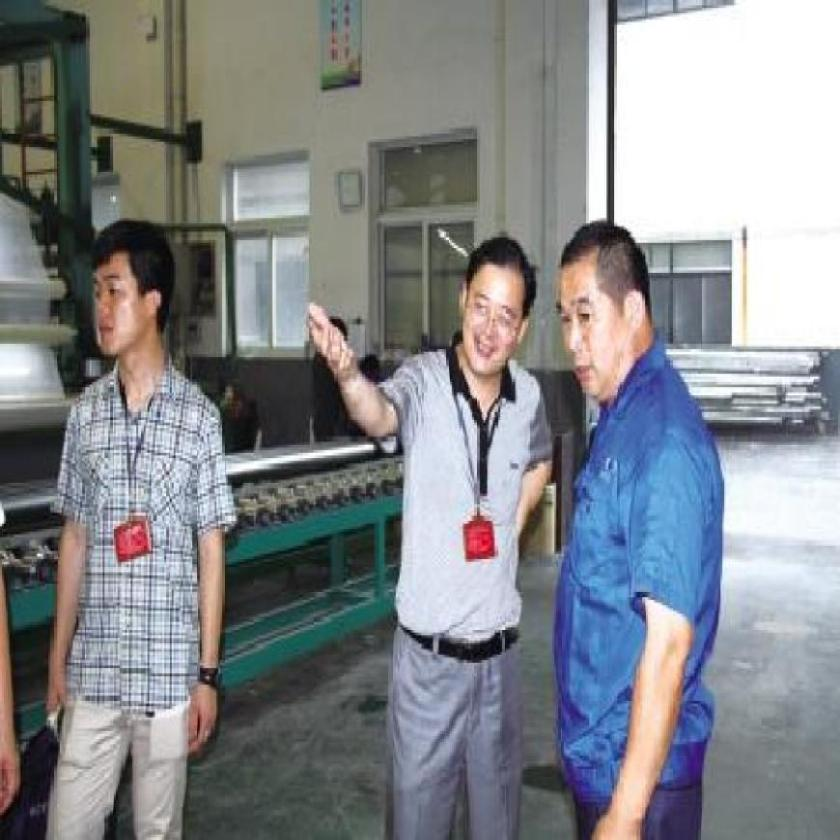Sin_casco: (546, 216, 659, 413), (83, 216, 179, 371), (454, 229, 535, 382)
